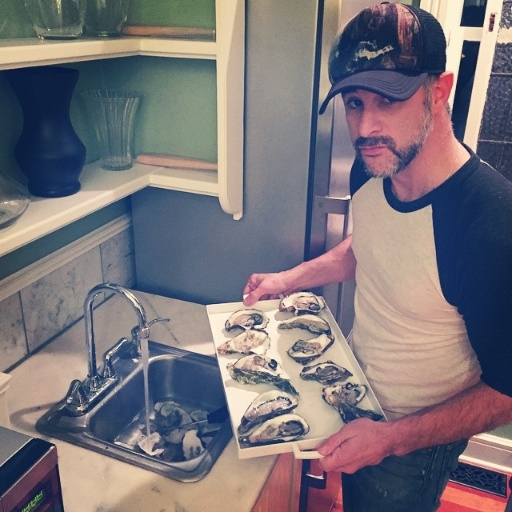hand: (316, 419, 385, 476), (243, 272, 291, 305)
